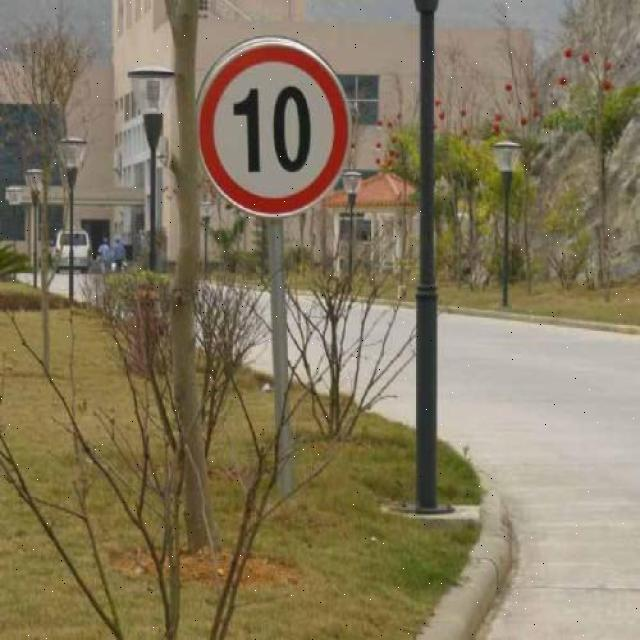speed limit 10: (194, 34, 351, 220)
